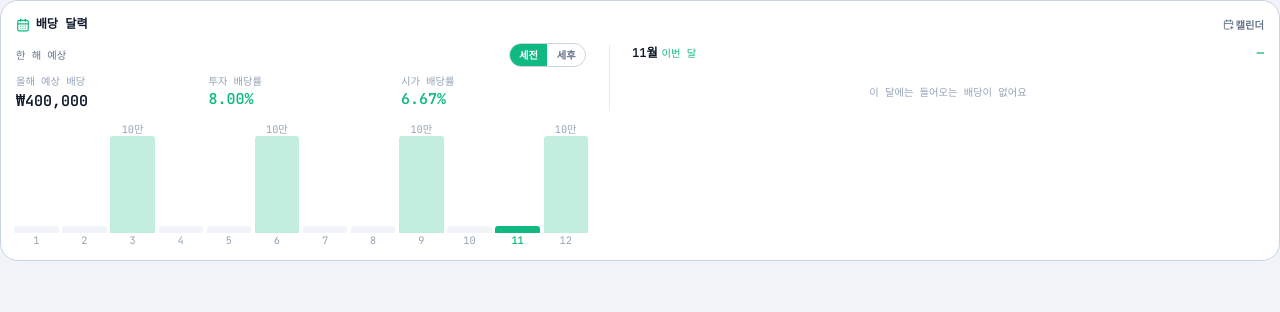
세전 · 세후 토글 › 세후로 바꾸면 금액과 배당률이 같이 줄고, 어림값인 근거가 붙는다
Expected: the text "올해 예상 배당" is shown, [16,74,85,88]
Expected: the text "₩400,000" is shown, [16,91,88,111]
Click the button "세후": (566, 55) [547,44,585,66]
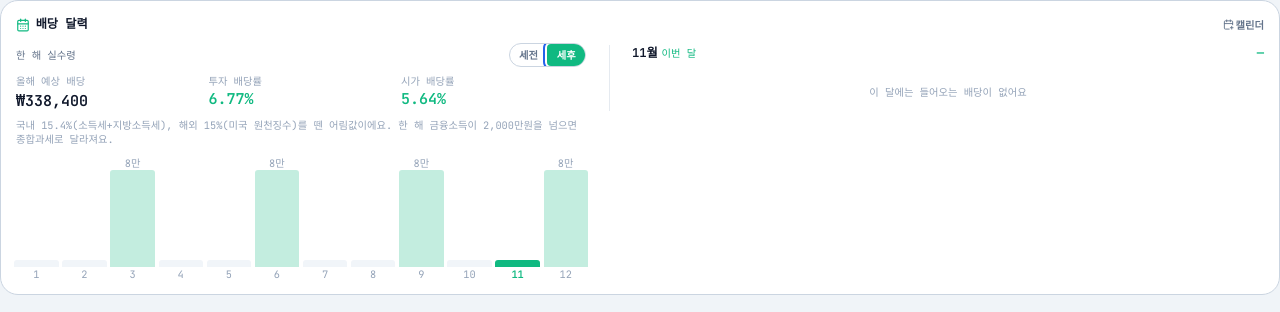
Now the text "₩338,400" is shown, box [16,91,88,111]
Now the text "₩400,000" is gone
Now the text "6.77%" is shown, box [208,89,254,109]
